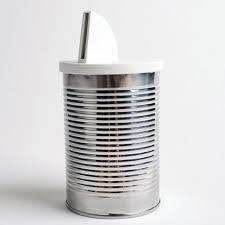Tin: (57, 14, 179, 219)
